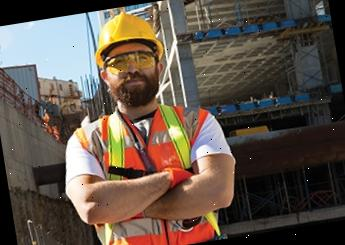helmet: (88, 7, 164, 62)
wear: (75, 96, 227, 245)
